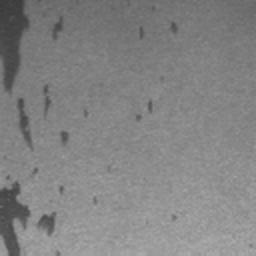Red iron sheet: (0, 180, 56, 255), (0, 1, 31, 92), (15, 99, 31, 145), (136, 100, 152, 122), (52, 15, 64, 41), (42, 83, 51, 114), (138, 26, 145, 42), (60, 132, 69, 142), (170, 22, 178, 33), (29, 166, 38, 175)
